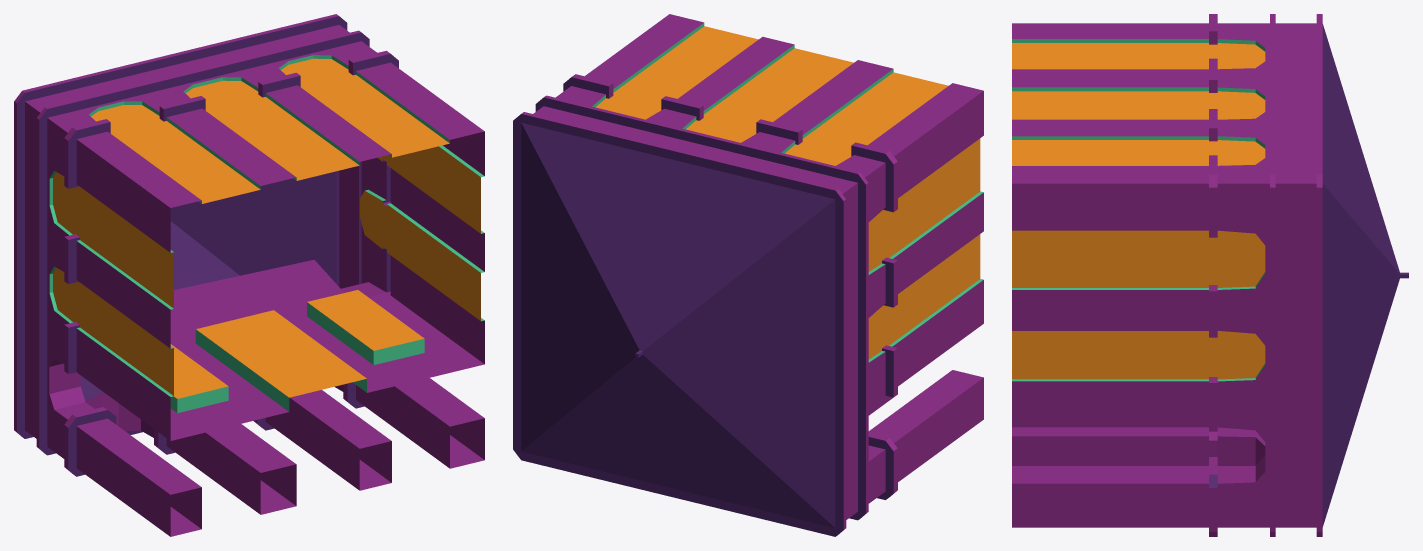
Rendered from Rogatka Warszawska Tier 3.fbx.
3 views of the same model, side by side, from view 1: azimuth 30°, elevation 25°; view 2: azimuth 150°, elevation 25°; view 3: azimuth 270°, elevation 25° (orthographic). The views are drawn at different scales.
Visible parts, largest first — view 1: Rogatka Warszawska; view 2: Rogatka Warszawska; view 3: Rogatka Warszawska.
Part boxes in pixels (x1,y1,x2,y2): Rogatka Warszawska: [14, 14, 484, 536]; Rogatka Warszawska: [513, 14, 983, 536]; Rogatka Warszawska: [1012, 14, 1408, 536].
Bounding box in the file's own units: 3.54 × 3.54 × 3.52.
